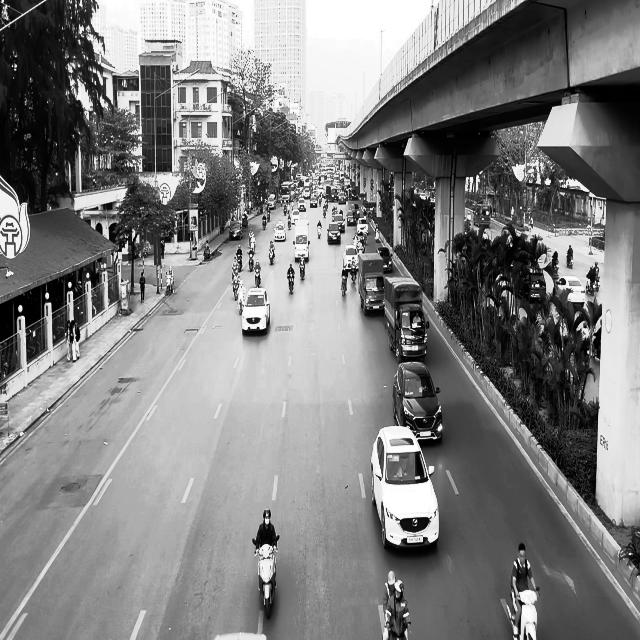car: (370, 425, 440, 550), (392, 361, 443, 442), (241, 287, 270, 335), (554, 275, 585, 307), (376, 246, 393, 273), (343, 245, 357, 270), (327, 222, 340, 244), (229, 221, 242, 240), (274, 221, 286, 241)
motorbike: (252, 534, 280, 619), (287, 272, 294, 294), (299, 256, 305, 280), (254, 269, 261, 287), (566, 252, 573, 268), (268, 247, 274, 264)
